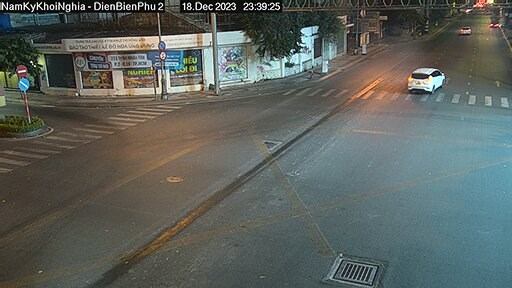car: (410, 55, 446, 95), (456, 23, 470, 37)
